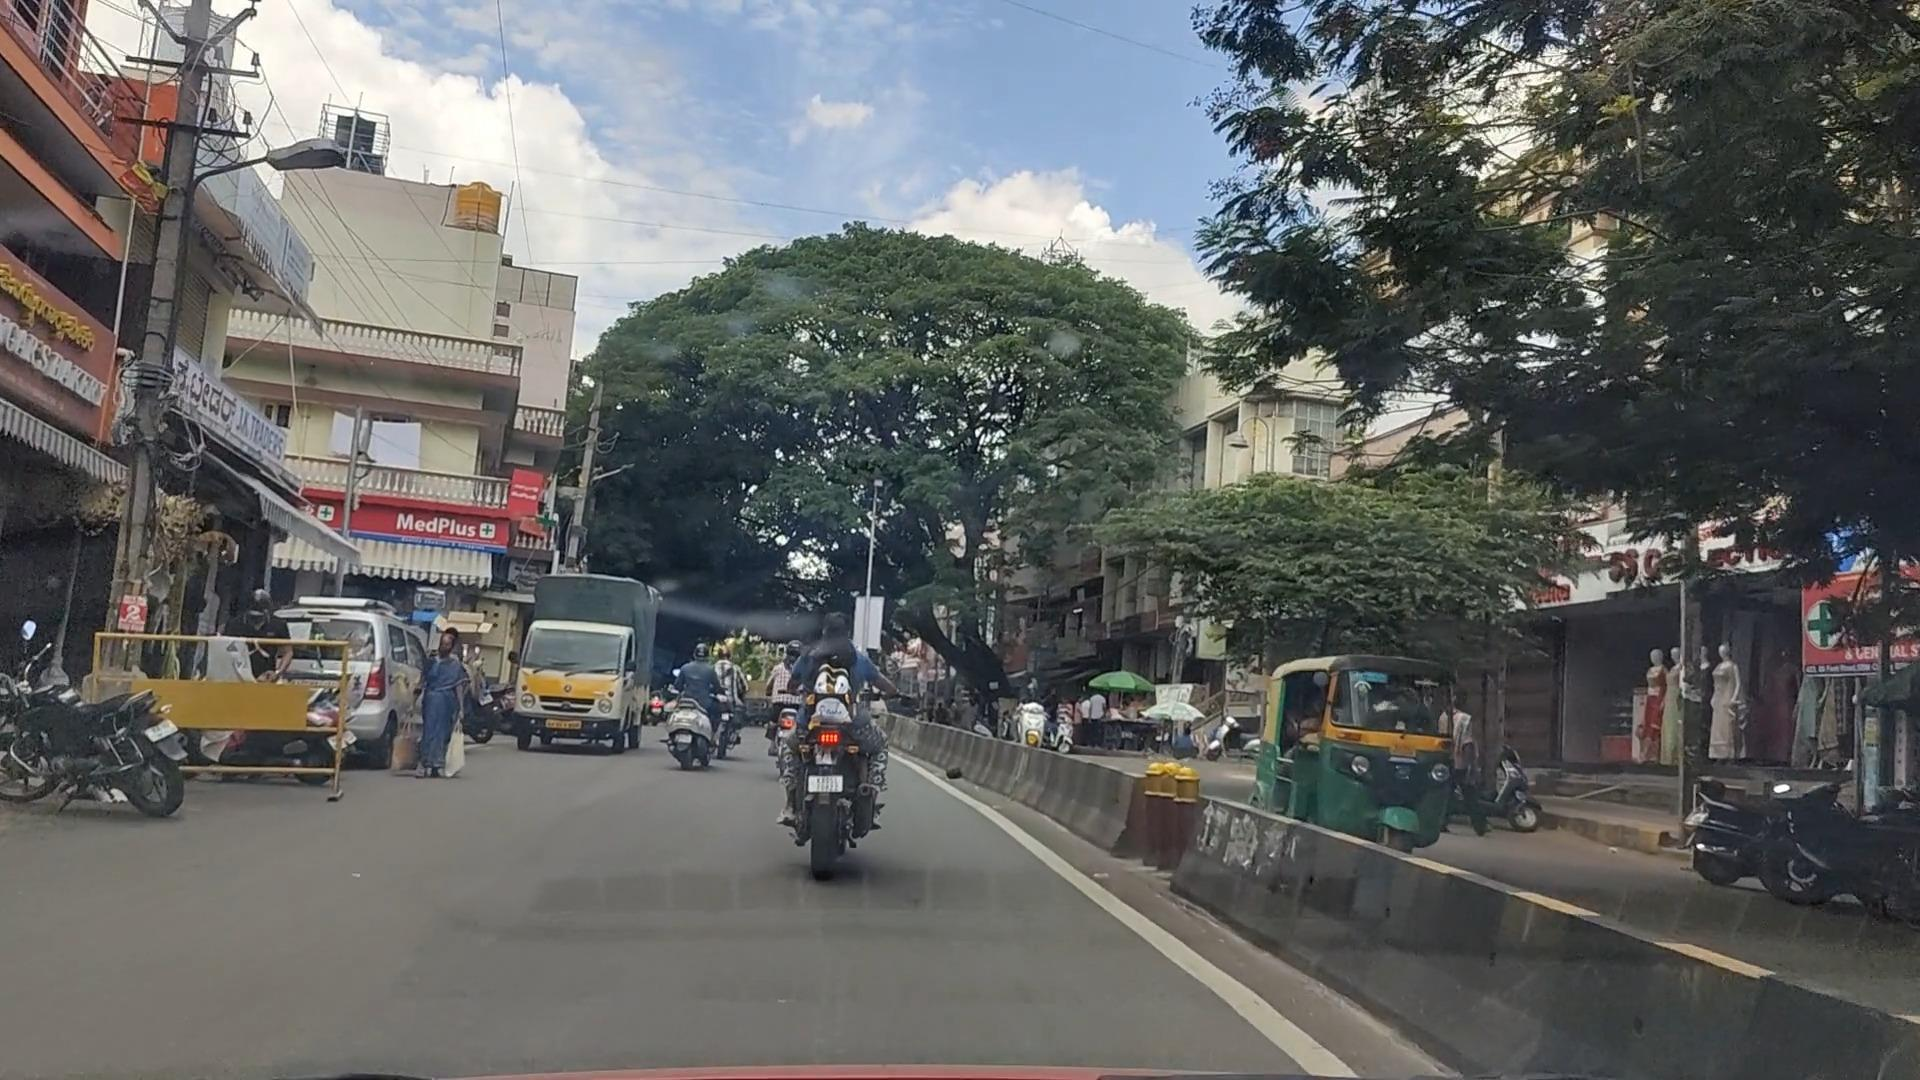HMV: (521, 568, 655, 758)
LMV: (766, 613, 899, 858), (670, 618, 732, 774)
